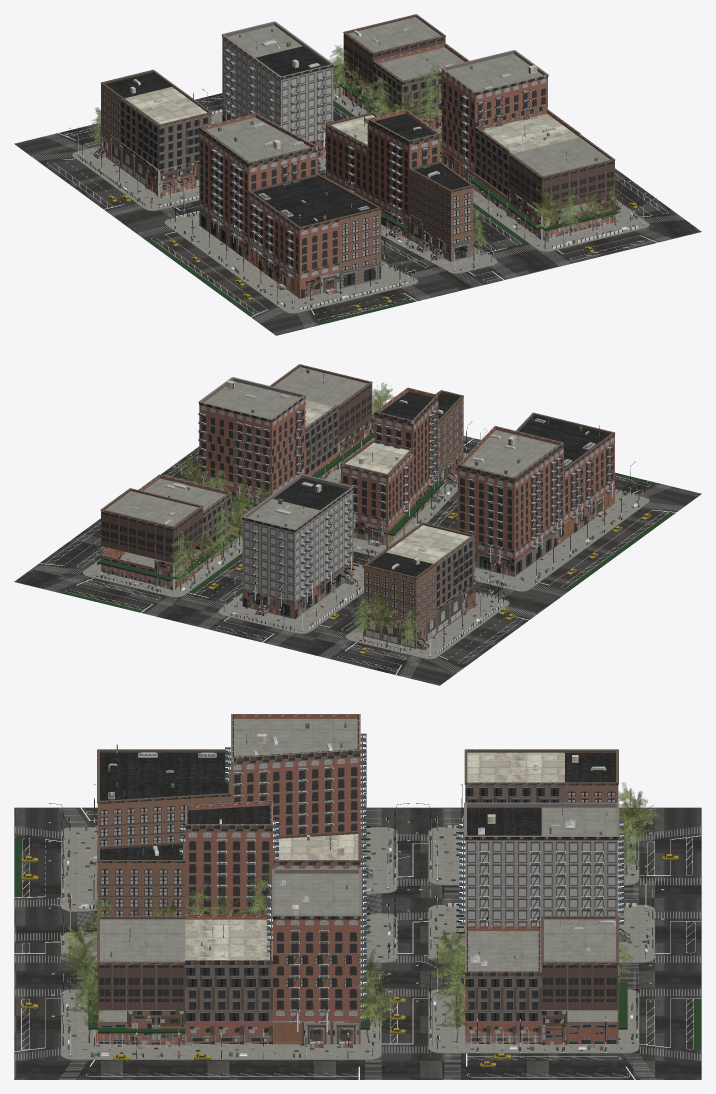
Rendered from city.glb.
3 views of the same model, one above another, from view 1: azimuth 30°, elevation 25°; view 2: azimuth 150°, elevation 25°; view 3: azimuth 270°, elevation 25° (orthographic). The views are drawn at different scales.
Visible parts, largest first — view 1: COL_Us_Builds_facadesWalls_001, COL_US_Doors_1, CityGen_Streets, CityGenside_walks, COL_CityGenroof_001, Street_Assets (×2), COL_CityGenroof_003, COL_CityGenroof_002, FoliageTrees_002, CityGenbasic_dark_green (×2), CityGen_lanes_secondary_color, CityGen_lanes_white (+6 smaller); view 2: COL_Us_Builds_facadesWalls_001, COL_US_Doors_1, CityGen_Streets, CityGenside_walks, Street_Assets (×2), COL_CityGenroof_001, COL_CityGenroof_003, CityGenbasic_dark_green (×2), COL_CityGenroof_002, FoliageTrees_002, CityGen_lanes_secondary_color, FoliageTrees_003 (+7 smaller); view 3: CityGen_Streets, COL_Us_Builds_facadesWalls_001, COL_US_Doors_1, CityGenside_walks, COL_CityGenroof_001, Street_Assets (×2), COL_CityGenroof_003, COL_CityGenroof_002, CityGen_lanes_secondary_color, FoliageTrees_002, FoliageTrees_003, CityGenbasic_dark_green (×2) (+9 smaller).
Part boxes in pixels (x1,y1,x2,y2): COL_Us_Builds_facadesWalls_001: (101,34,614,298); COL_US_Doors_1: (93,14,615,295); CityGen_Streets: (14,67,701,335); CityGenside_walks: (72,86,649,313); COL_CityGenroof_001: (205,17,612,178); Street_Assets (×2): (63,48,657,310); COL_CityGenroof_003: (102,46,470,227); COL_CityGenroof_002: (121,87,578,153); FoliageTrees_002: (88,45,581,246); CityGenbasic_dark_green (×2): (145,64,620,323); CityGen_lanes_secondary_color: (32,134,683,327); CityGen_lanes_white: (47,77,668,320); COL_Us_Builds_facadesWalls_001: (101,384,614,648); COL_US_Doors_1: (100,364,615,650); CityGen_Streets: (14,420,701,685); CityGenside_walks: (83,431,649,658); Street_Assets (×2): (83,402,648,657); COL_CityGenroof_001: (103,367,557,528); COL_CityGenroof_003: (273,391,613,579); CityGenbasic_dark_green (×2): (62,428,673,631); COL_CityGenroof_002: (305,400,473,564); FoliageTrees_002: (166,465,423,644); CityGen_lanes_secondary_color: (32,436,683,677); FoliageTrees_003: (175,382,400,631); CityGen_Streets: (14,807,701,1079); COL_Us_Builds_facadesWalls_001: (97,754,618,1044); COL_US_Doors_1: (89,714,630,1047); CityGenside_walks: (61,827,654,1059); COL_CityGenroof_001: (100,719,616,971); Street_Assets (×2): (48,733,664,1058); COL_CityGenroof_003: (100,752,615,859); COL_CityGenroof_002: (185,752,564,959); CityGen_lanes_secondary_color: (15,808,700,1079); FoliageTrees_002: (71,782,644,1020); FoliageTrees_003: (59,788,659,1026); CityGenbasic_dark_green (×2): (14,807,701,1049).
Size of the model in its own units: 131 by 31.38 by 140.
28 materials, 22 textured.
